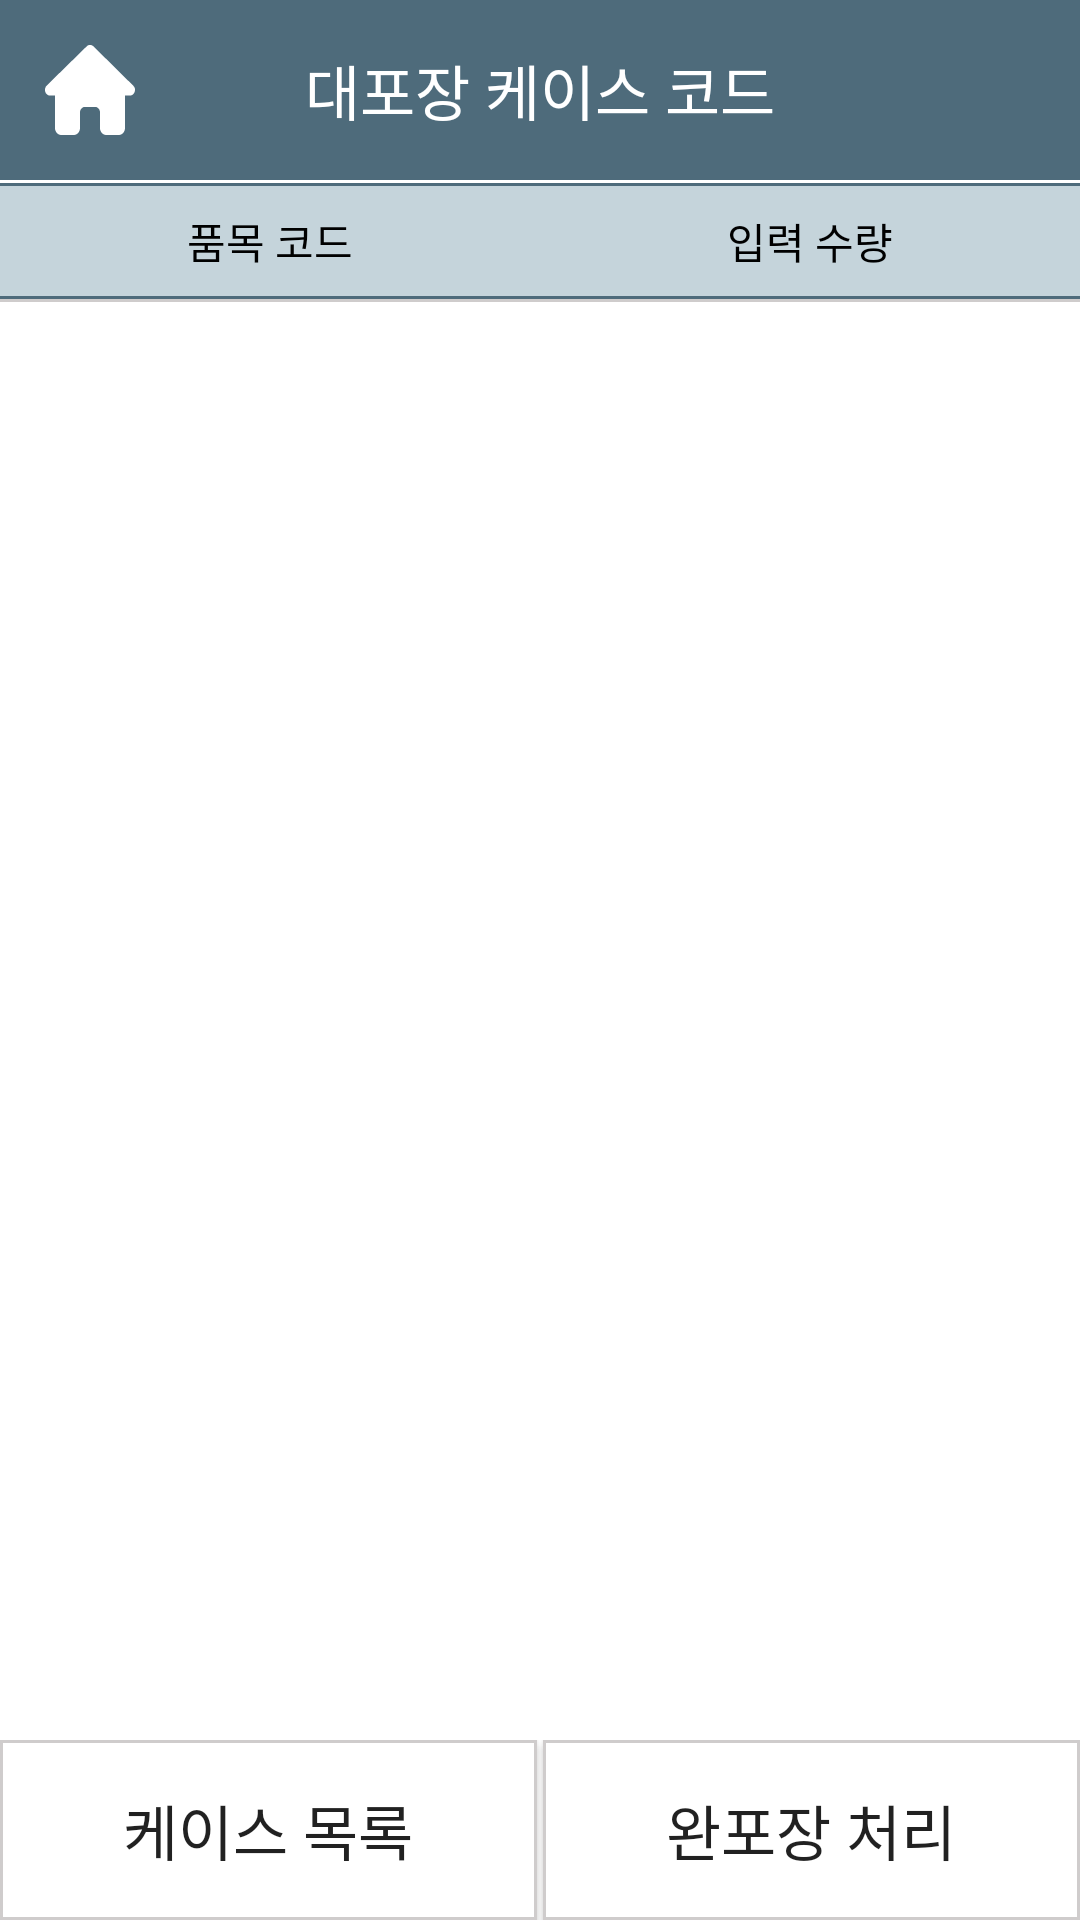

Icon click points for this 1080w x 1920h phone screenshot, format (x=x, y=y):
house: (x=90, y=90)
